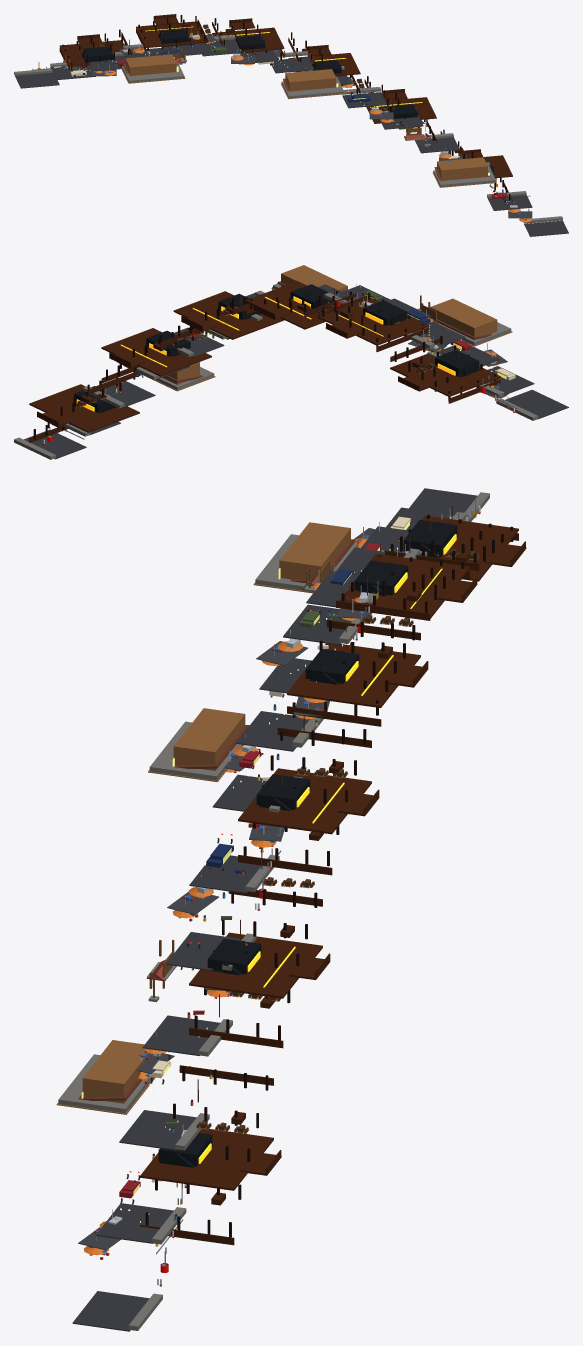
Rendered from ul_w9_01_xom_leo_trai_mat_sunset_bbq_promenade_and_streetfood_carts.glb.
3 renders of one model, top to bottom at view 1: azimuth 30°, elevation 25°; view 2: azimuth 150°, elevation 25°; view 3: azimuth 270°, elevation 25°, orthographic. The views are drawn at different scales.
Visible parts, largest first — view 1: ul_w9_01_xom_leo_trai_mat_sunset_bbq_promenade_and_streetfoo (×9); view 2: ul_w9_01_xom_leo_trai_mat_sunset_bbq_promenade_and_streetfoo (×10); view 3: ul_w9_01_xom_leo_trai_mat_sunset_bbq_promenade_and_streetfoo (×10).
Boxes of the visible parts, x1=… form: ul_w9_01_xom_leo_trai_mat_sunset_bbq_promenade_and_streetfoo (×9): x1=14, y1=14, x2=568, y2=236; ul_w9_01_xom_leo_trai_mat_sunset_bbq_promenade_and_streetfoo (×10): x1=14, y1=265, x2=568, y2=459; ul_w9_01_xom_leo_trai_mat_sunset_bbq_promenade_and_streetfoo (×10): x1=56, y1=488, x2=526, y2=1331.
Bounding box in the file's own units: 153 × 70.7 × 66.38.
